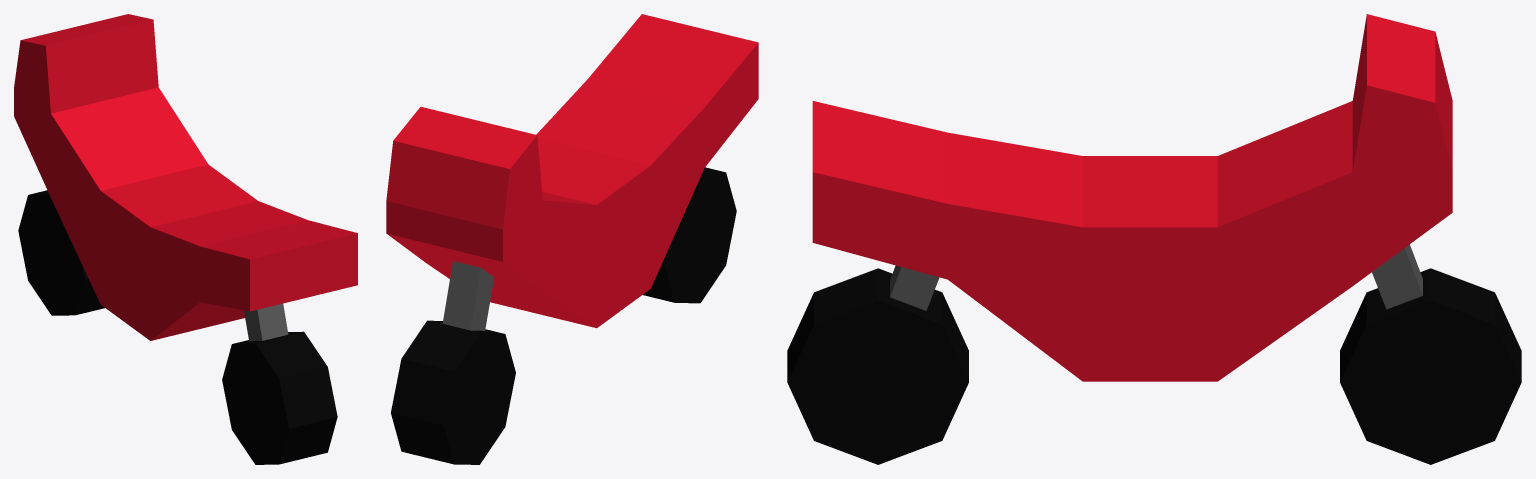
Rendered from MotoLowPoly.fbx.
3 views of the same model, side by side, from view 1: azimuth 30°, elevation 25°; view 2: azimuth 150°, elevation 25°; view 3: azimuth 270°, elevation 25° (orthographic). The views are drawn at different scales.
Parts seen in each view (by area): view 1: Base, Cylinder.001, Roue Avant, Arriere; view 2: Base, Roue Avant, Cylinder.001, Avant; view 3: Base, Cylinder.001, Roue Avant, Avant, Arriere.
Part boxes in pixels (<box>): Base: <box>14,14,357,340</box>; Cylinder.001: <box>222,331,337,464</box>; Roue Avant: <box>18,190,104,315</box>; Arriere: <box>244,303,288,341</box>; Base: <box>386,14,758,328</box>; Roue Avant: <box>391,320,515,464</box>; Cylinder.001: <box>643,167,736,303</box>; Avant: <box>442,261,494,330</box>; Base: <box>812,14,1452,381</box>; Cylinder.001: <box>787,268,968,464</box>; Roue Avant: <box>1340,268,1521,464</box>; Avant: <box>1372,244,1422,309</box>; Arriere: <box>890,265,939,310</box>.
Bounding box in the file's own units: 50 × 131 × 218.
